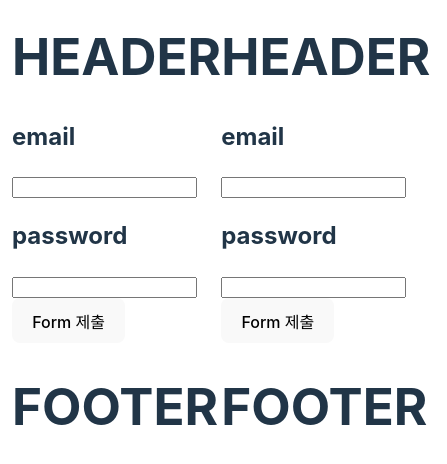
Test: 이메일, 비밀번호 미입력시 에러메시지가 나타난다.
Click the button with id "submitButton": click(278, 321) [221,298,334,344]
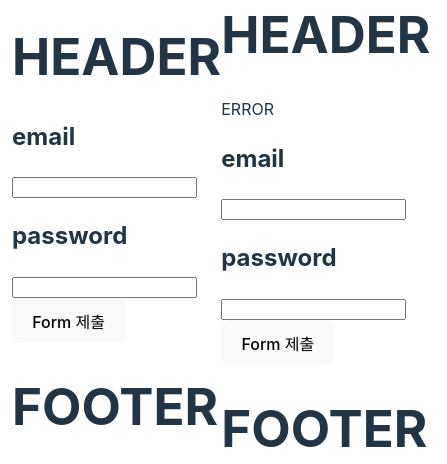
Expected: the text with id "errorMessage" reads "ERROR", [221,99,274,119]
